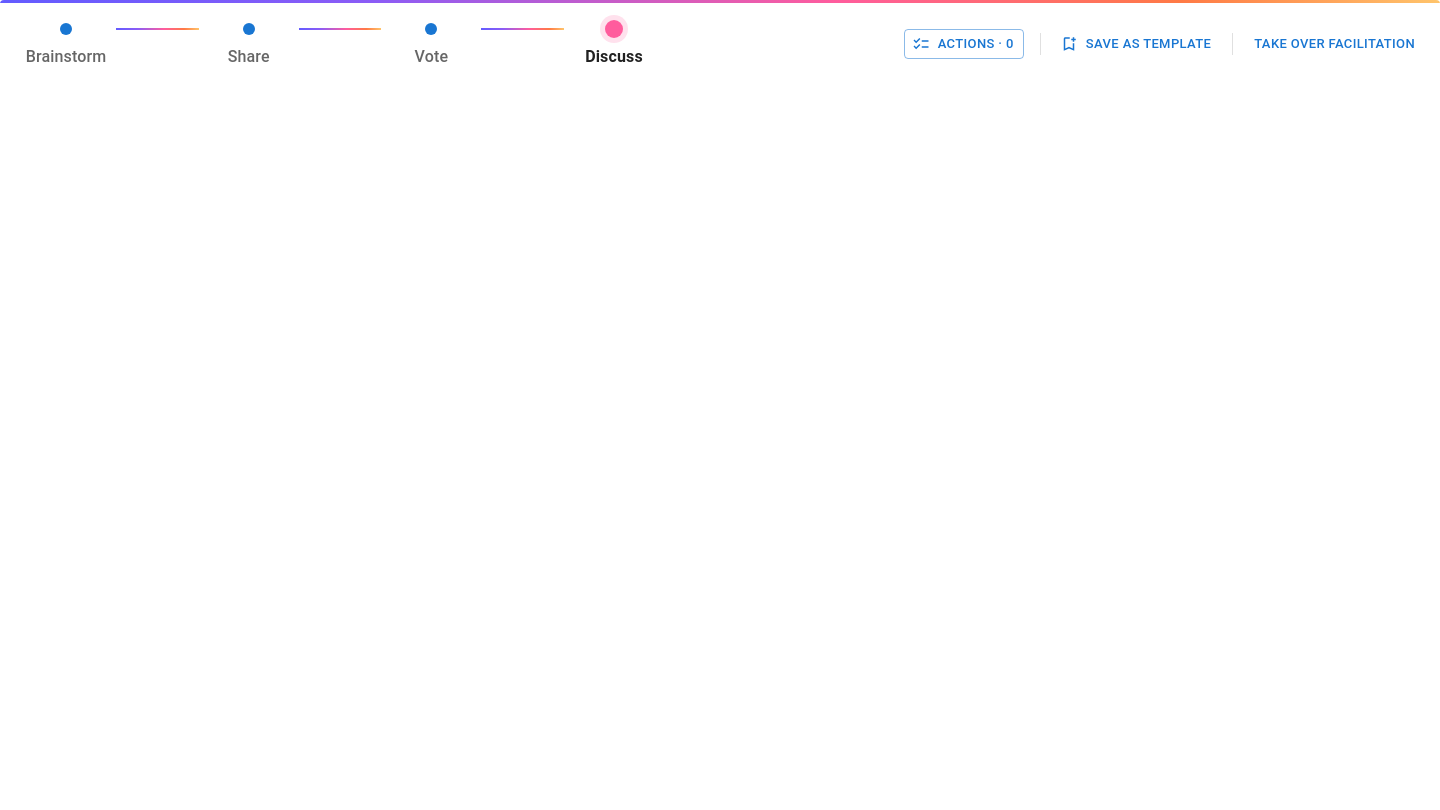
Test: BoardToolbar save as template › prefills the name with the template the retro came from and saves it
Step 1. Click the button "Save as template" → (1137, 44), box [1057,29,1216,59]
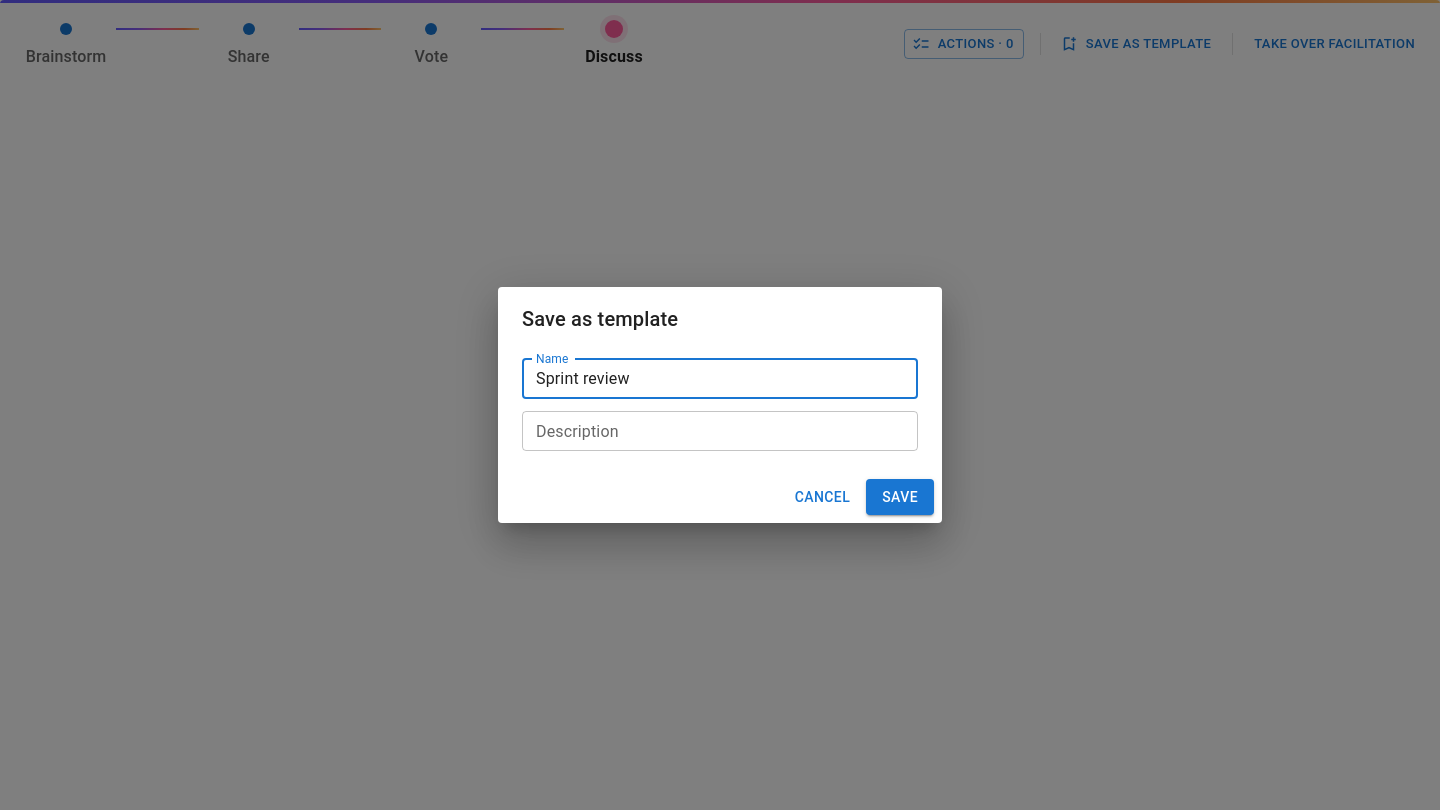
Expected: the field labelled "Name" holds "Sprint review", [522,359,918,399]
Step 2. Type "Our way" into the text box labelled "Description" → (720, 431), box [536,419,904,442]
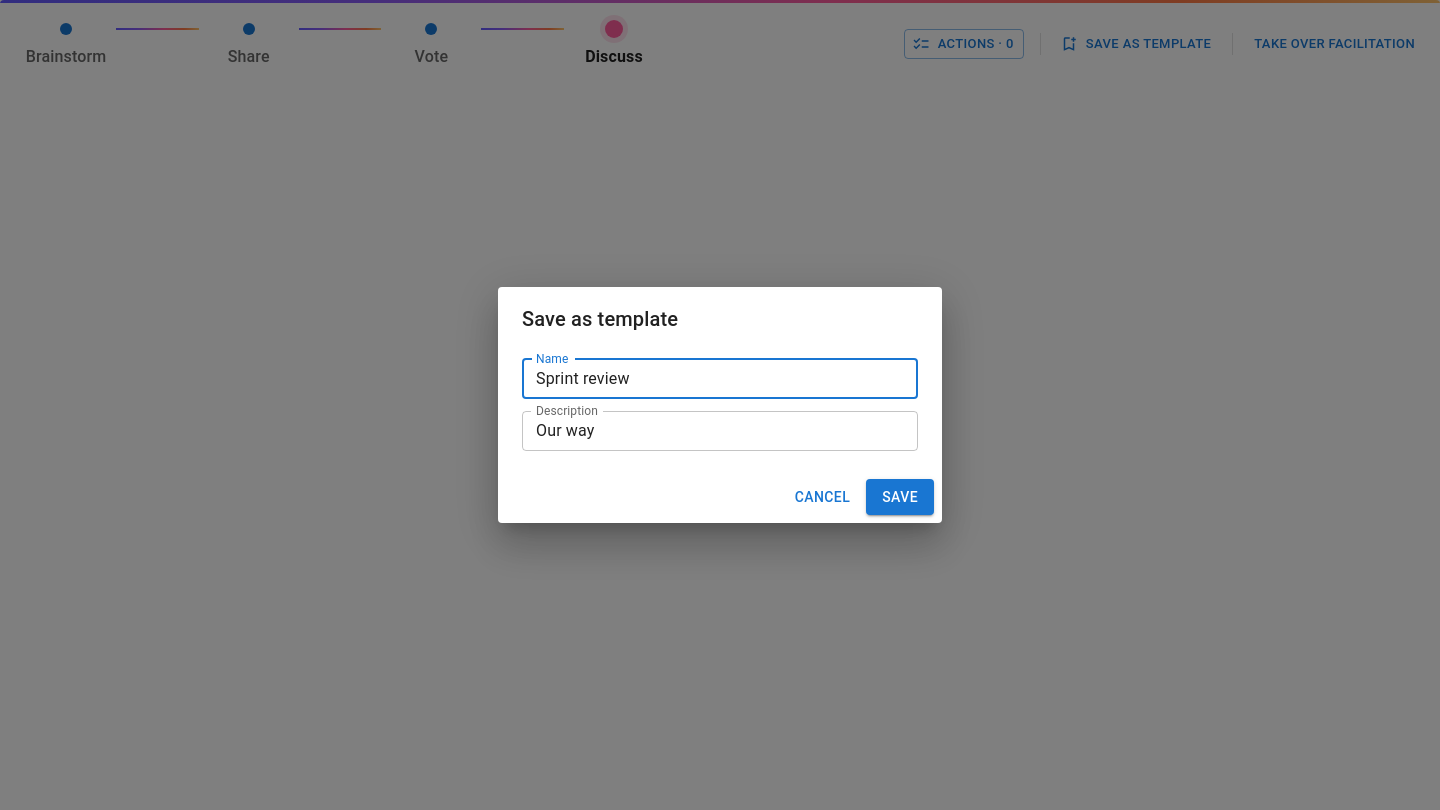
Step 3. Click the button "Save" → (900, 497), box [866,479,934,515]
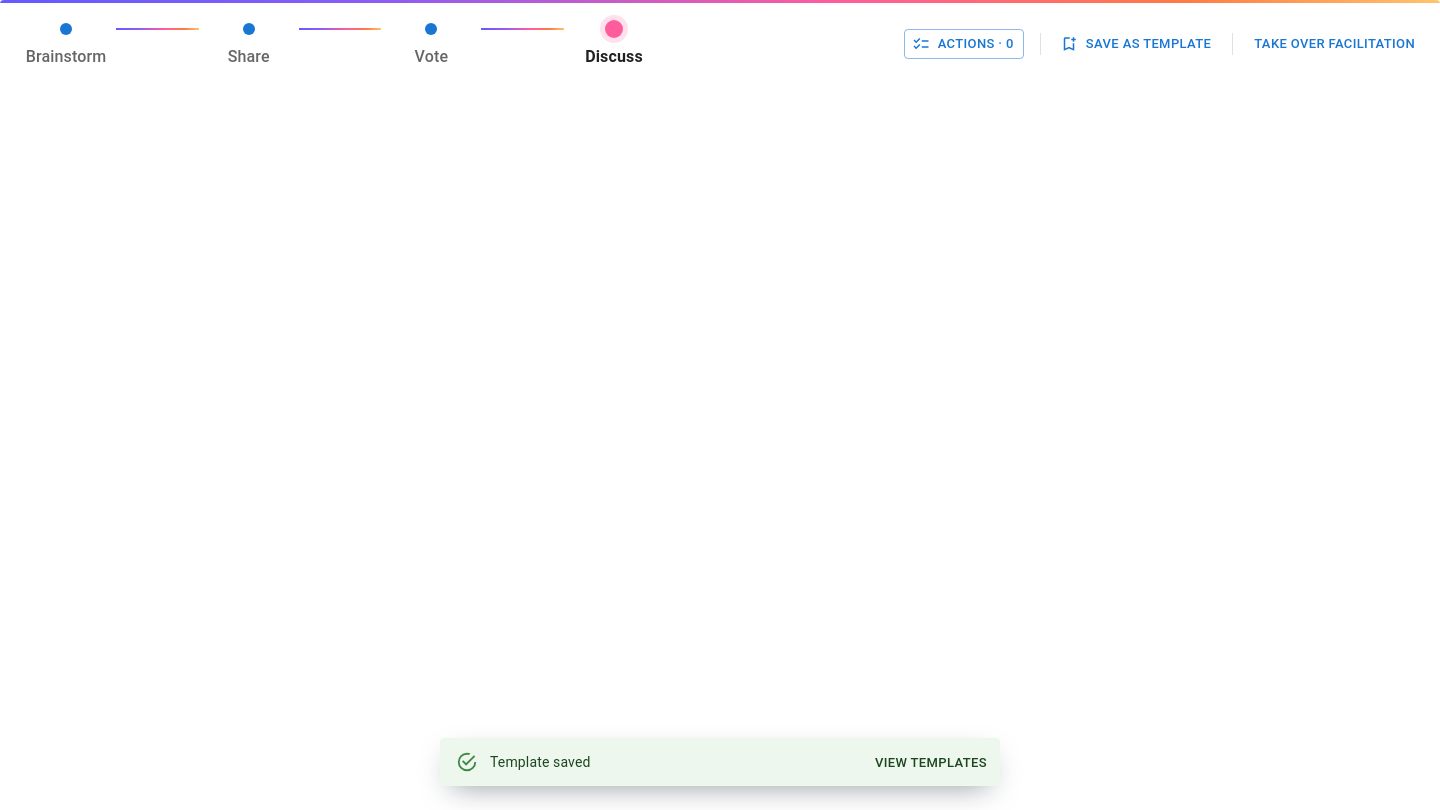
Expected: the text "Template saved" is shown, [490,754,591,770]
Expected: the button "View templates" is shown, [870,748,992,779]
